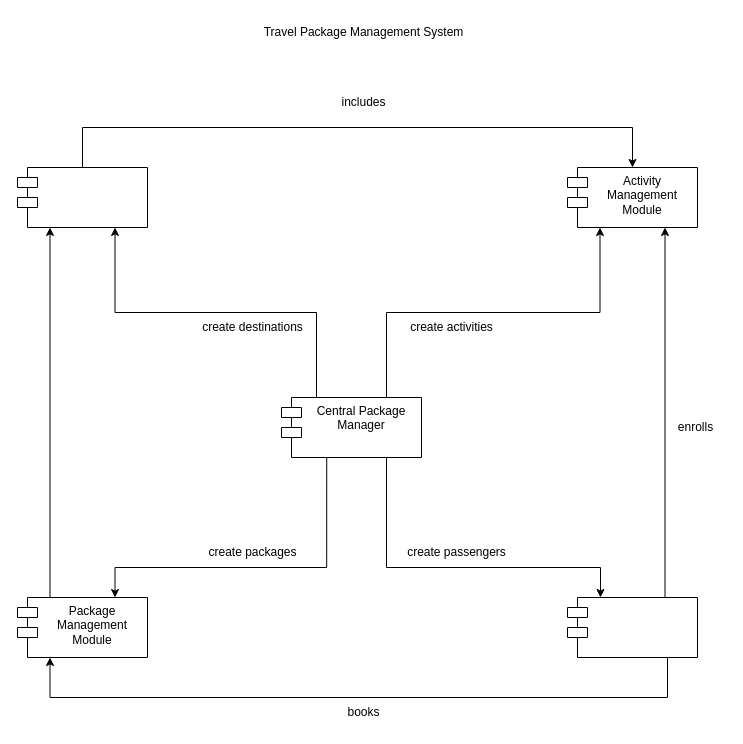
Some shapes in this 743 by 744 pixel diagram are drawn without their labels. The box of each missing label's shape, as (x1, y1, x2, y2) in pixels:
Destination Management Module: (16, 166, 148, 228)
Passanger management Module: (566, 596, 698, 658)
